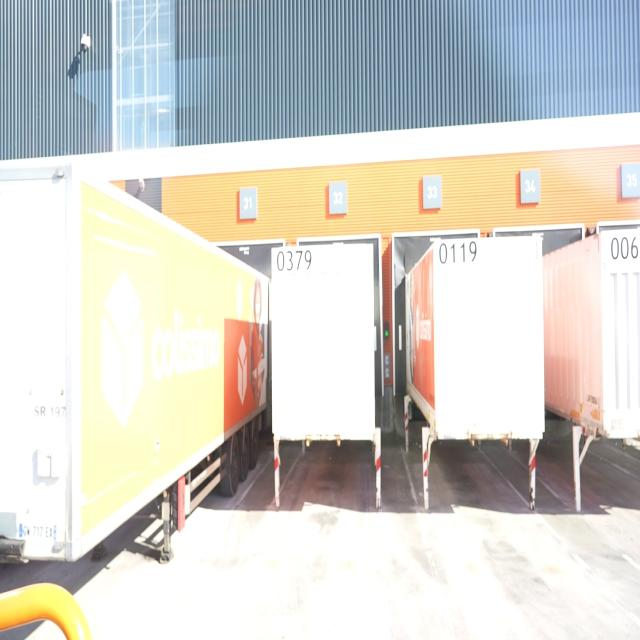Code: (276, 246, 315, 276), (436, 241, 481, 265)
